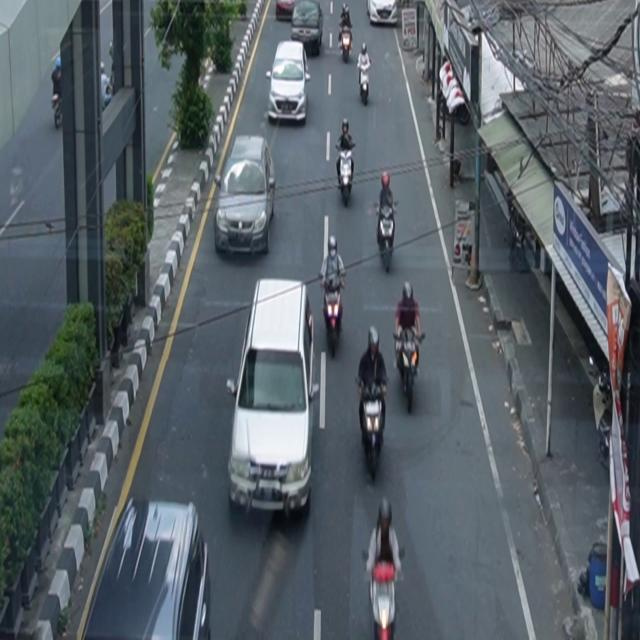car: (79, 497, 212, 640), (214, 135, 277, 257), (266, 40, 312, 126), (367, 1, 399, 27)
truck: (226, 278, 320, 521)
